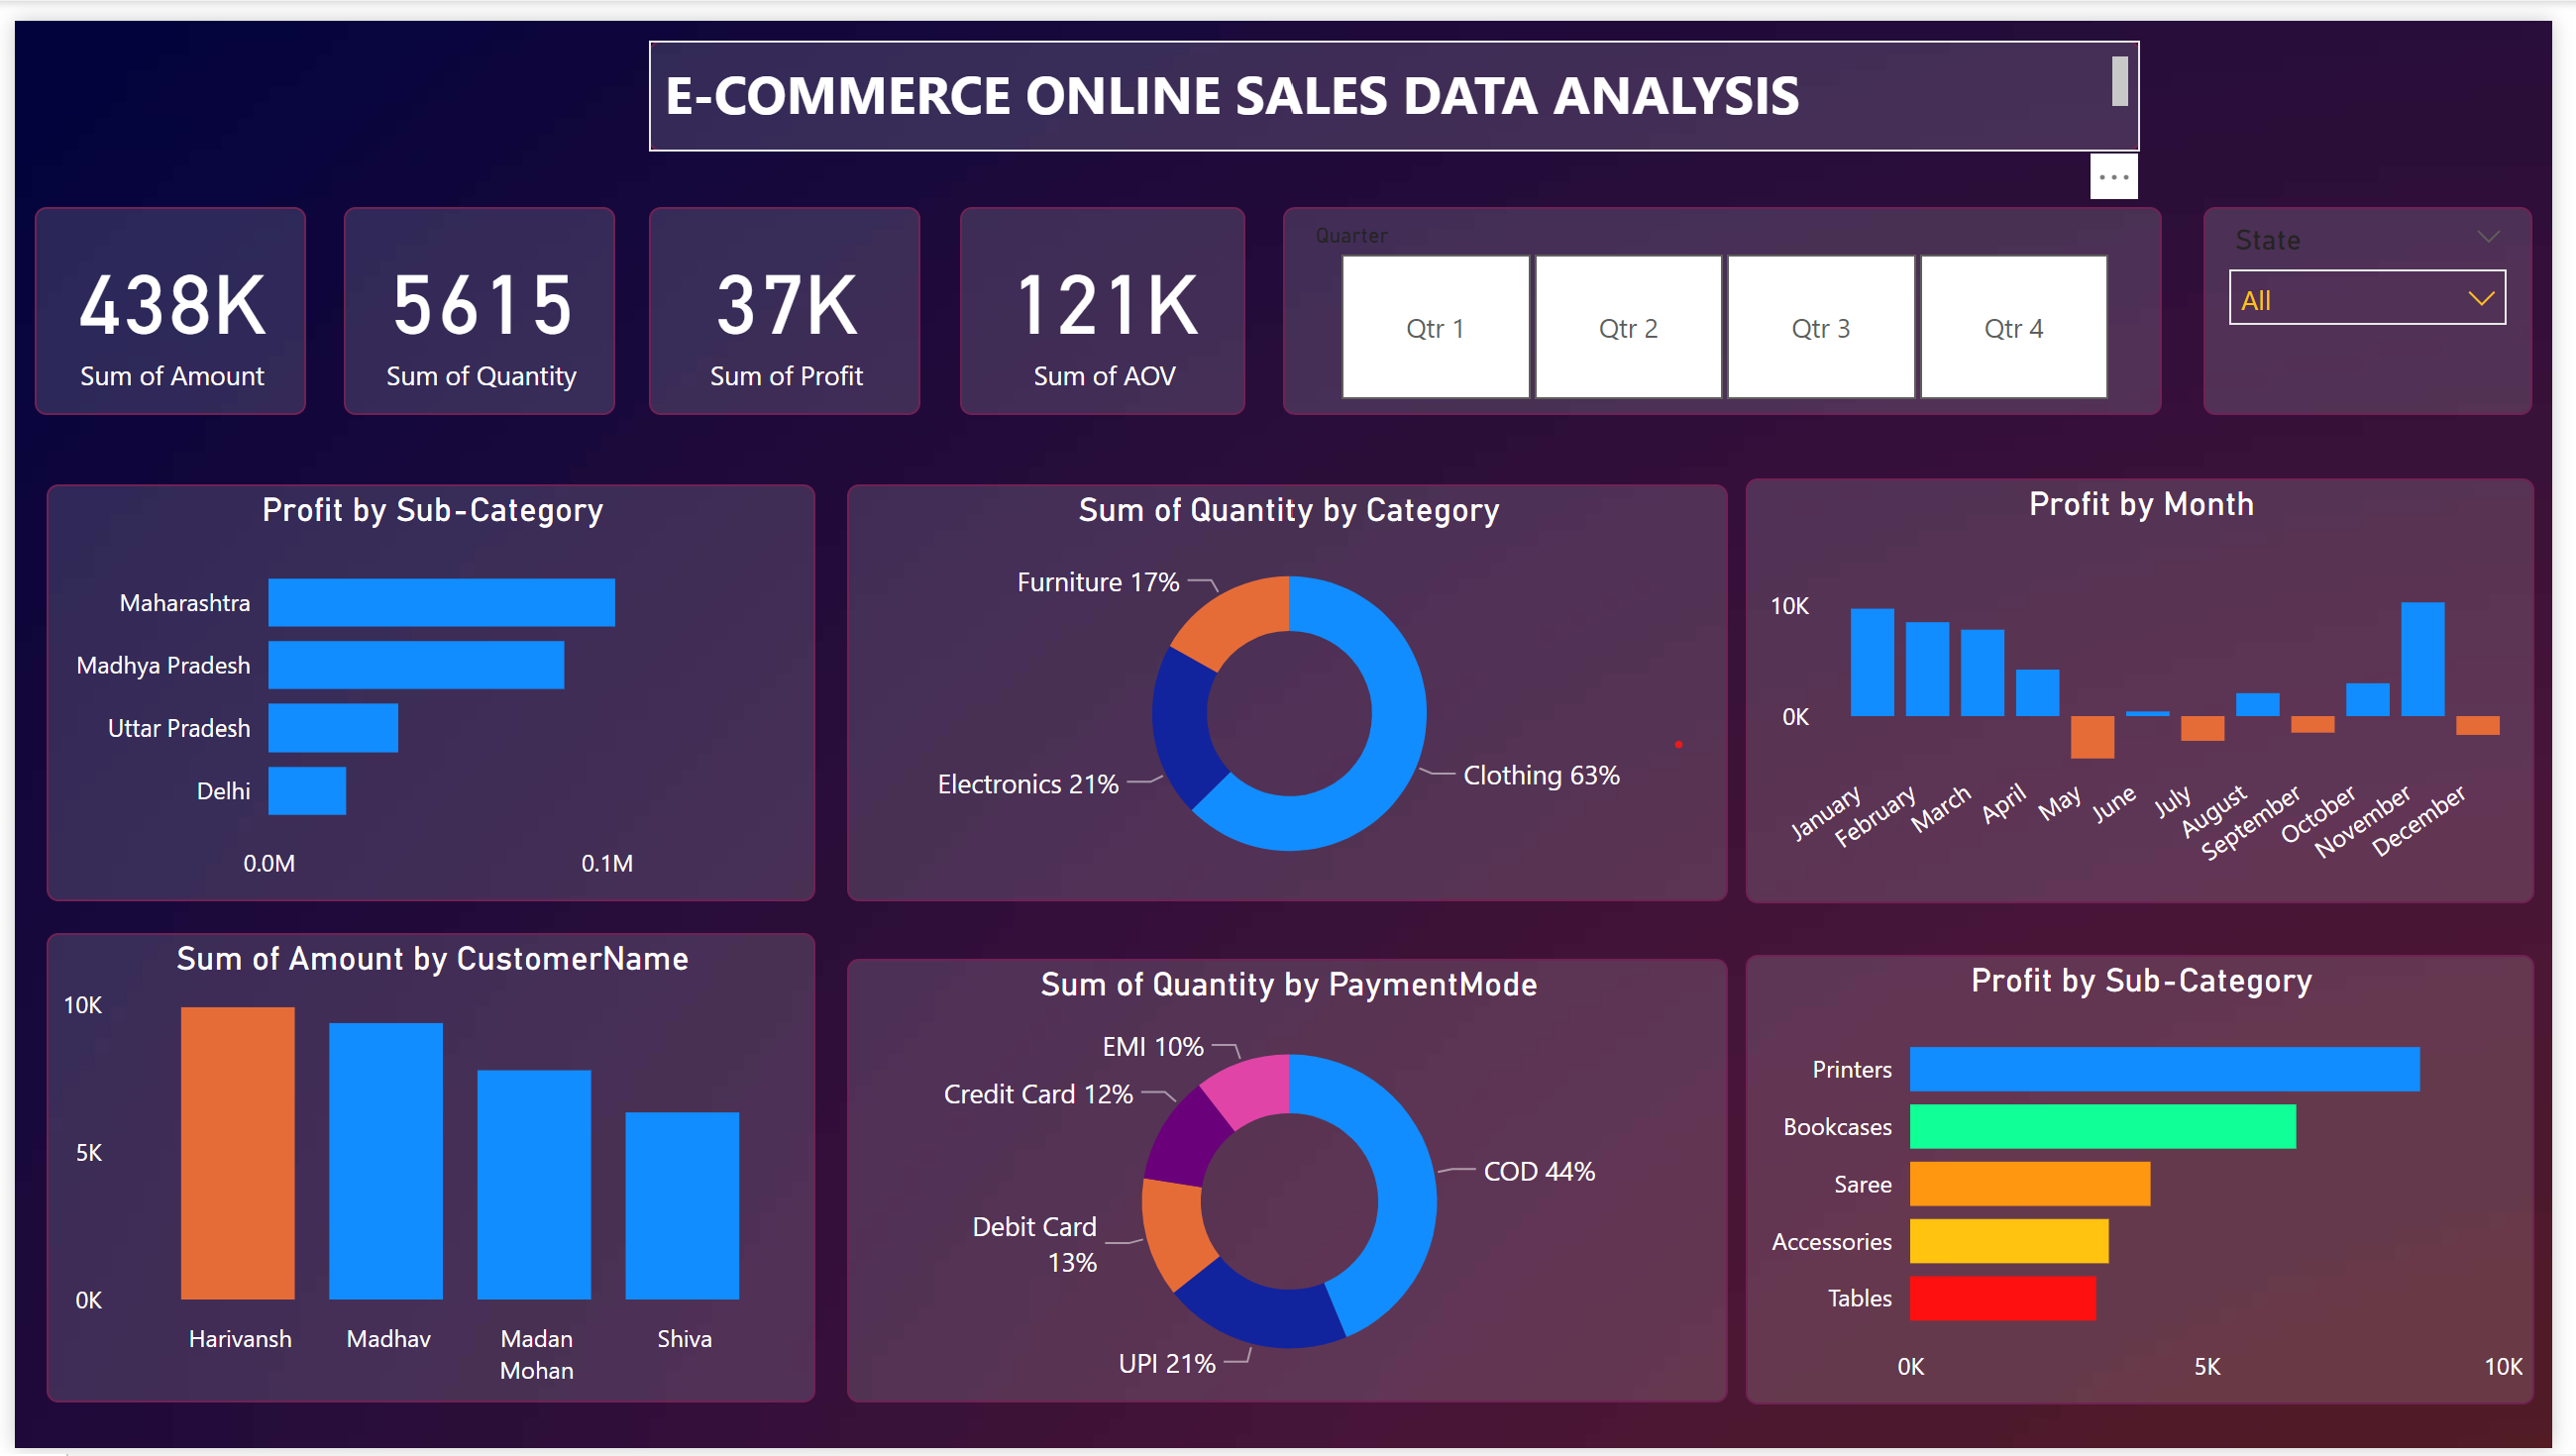

Layout of this report page (visuals, bound fields, positions):
{"tool":"powerbi","page":{"name":"Page 1","canvas":[1280,720],"ordinal":0},"visuals":[{"type":"textbox","box":[320,10,752,56],"z":0},{"type":"columnChart","title":"Profit by Month","fields":{"Category":["Orders.Order Date.Variation.Date Hierarchy.Month"],"Y":["Details.Profit"]},"box":[873.5,230.7,397.7,214.2],"z":1000},{"type":"clusteredBarChart","title":"Profit by Sub-Category","fields":{"Category":["Details.Sub-Category"],"Y":["Details.Profit"]},"box":[873.5,471.3,397.7,226.3],"z":2000},{"type":"donutChart","fields":{"Category":["Details.Category"],"Y":["Details.Quantity"]},"box":[420,234.3,444.3,210],"z":3000},{"type":"donutChart","fields":{"Category":["Details.PaymentMode"],"Y":["Details.Quantity"]},"box":[420,472.9,444.3,224.3],"z":4000},{"type":"card","fields":{"Values":["Details.Amount"]},"box":[9.9,94.5,137.3,104.4],"z":5000},{"type":"card","fields":{"Values":["Details.Quantity"]},"box":[165.7,94.3,137.1,104.3],"z":6000},{"type":"card","fields":{"Values":["Details.Profit"]},"box":[320,94.3,137.1,104.3],"z":7000},{"type":"card","fields":{"Values":["Details.AOV"]},"box":[477.1,94.3,144.3,104.3],"z":8000},{"type":"clusteredBarChart","title":"Profit by Sub-Category","fields":{"Category":["Orders.State"],"Y":["Details.Amount"]},"box":[15.7,234.3,388.6,210],"z":9000},{"type":"columnChart","fields":{"Category":["Orders.CustomerName"],"Y":["Details.Amount"]},"box":[15.7,460,388.6,237.1],"z":10000},{"type":"slicer","fields":{"Values":["Orders.Order Date.Variation.Date Hierarchy.Quarter"]},"box":[640,94.3,442.9,104.3],"z":11000},{"type":"slicer","fields":{"Values":["Orders.State"]},"box":[1104.3,94.3,165.7,104.3],"z":12000}]}

Visuals, with their boxes in screenshot pixels (x1, y1, x2, y2), scaled from the page's 1280x720 canvas onto the 2576x1456 screenshot:
textbox: 644,20,2158,134
"Profit by Month" columnChart: 1758,467,2558,899
"Profit by Sub-Category" clusteredBarChart: 1758,953,2558,1410
donutChart - Details.Category x Details.Quantity: 845,473,1740,898
donutChart - Details.PaymentMode x Details.Quantity: 845,957,1740,1409
card - Details.Amount: 20,191,296,402
card - Details.Quantity: 334,191,609,401
card - Details.Profit: 644,191,919,401
card - Details.AOV: 960,191,1250,401
"Profit by Sub-Category" clusteredBarChart: 32,473,813,898
columnChart - Orders.CustomerName x Details.Amount: 32,930,813,1409
slicer - Orders.Order Date.Variation.Date Hierarchy.Quarter: 1288,191,2180,401
slicer - Orders.State: 2222,191,2556,401
